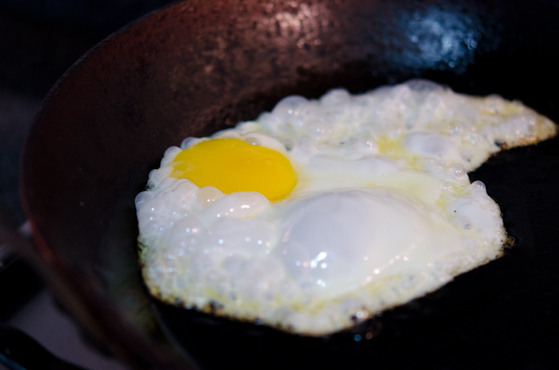fried egg: (161, 99, 434, 296)
